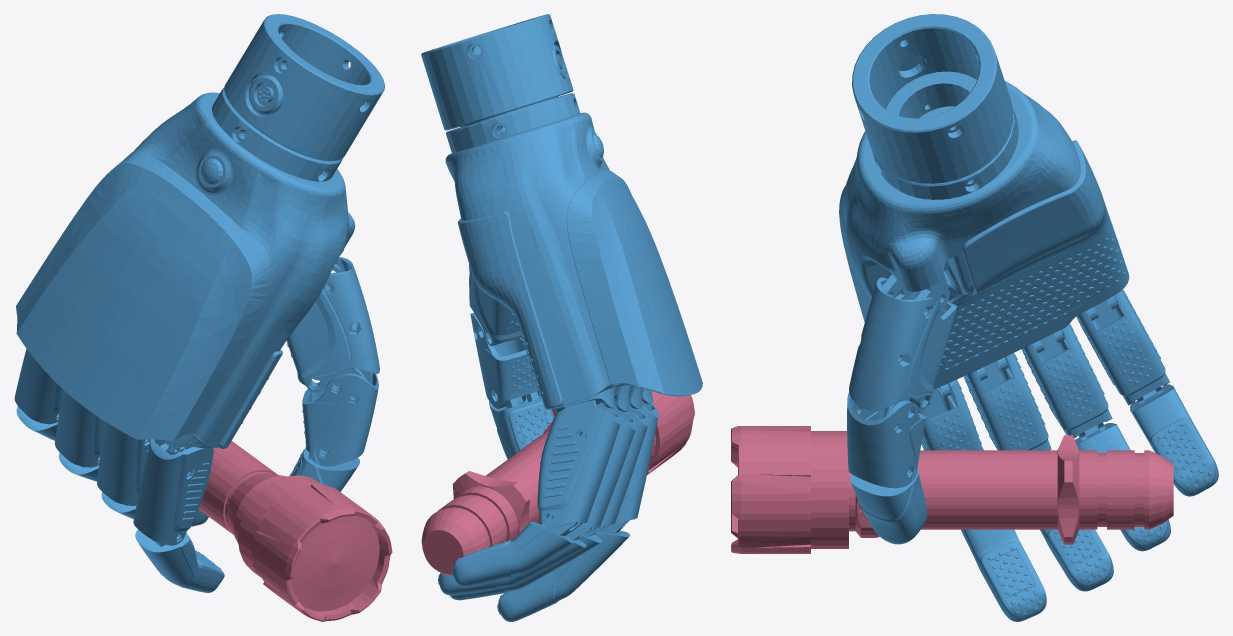
3 views of the same model, side by side, from view 1: azimuth 30°, elevation 25°; view 2: azimuth 150°, elevation 25°; view 3: azimuth 270°, elevation 25° (orthographic). The views are drawn at different scales.
Visible parts, largest first — view 1: 7; view 2: 7; view 3: 7.
Part boxes in pixels (x1,y1,x2,y2): 7: (14,14,392,621); 7: (421,14,702,621); 7: (731,14,1218,621).
Bounding box in the file's own units: 0.1242 × 0.2307 × 0.1648.
